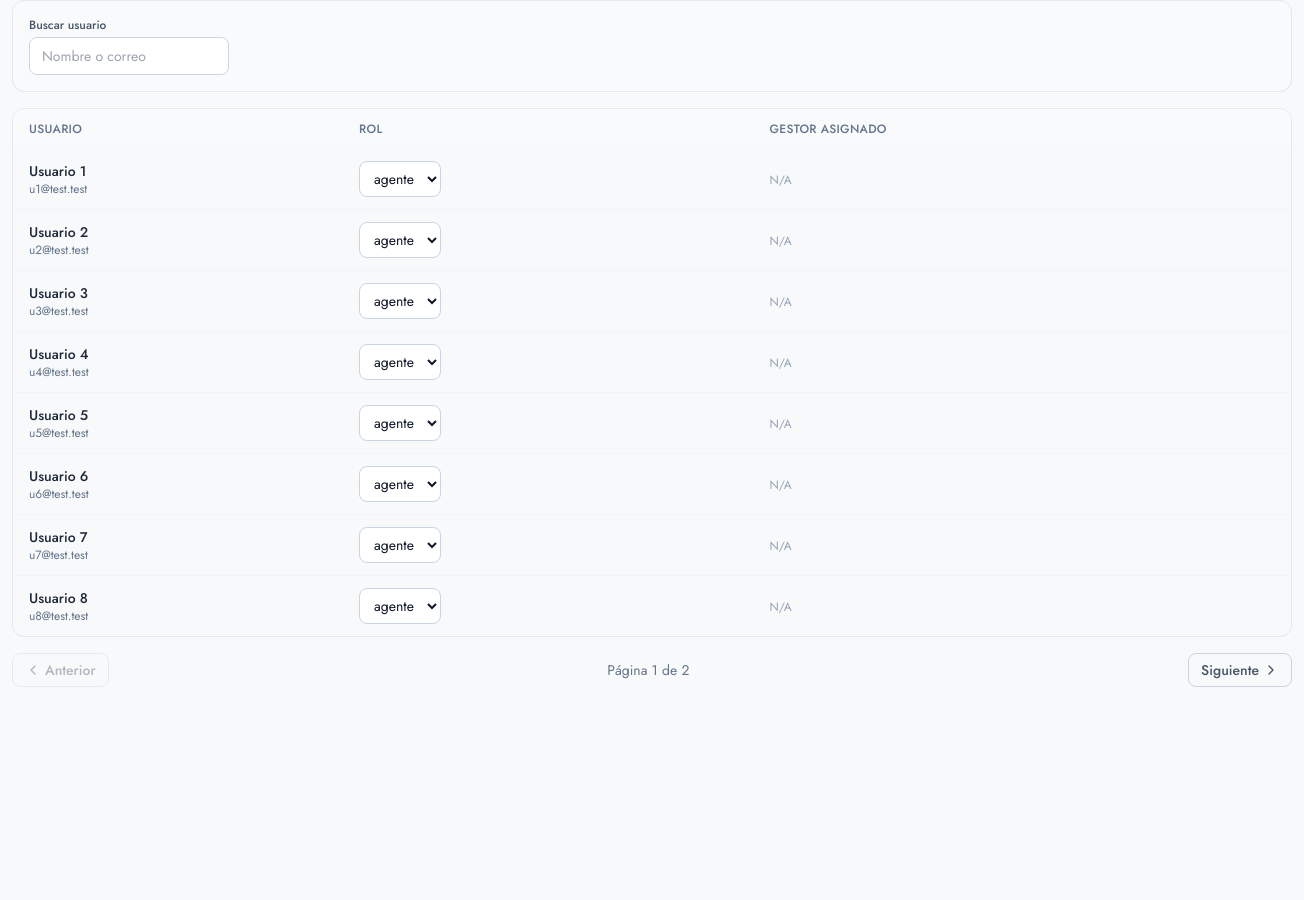
Test: AdminUserTable › pagina cuando hay más de 8 usuarios
The width and height of the screenshot is (1304, 900).
Expected: the text "Usuario 1" is shown, [29,161,86,181]
Expected: the text "Usuario 9" is not shown
Step 1. Click the button "Siguiente" → (1240, 670), box [1188,653,1292,687]
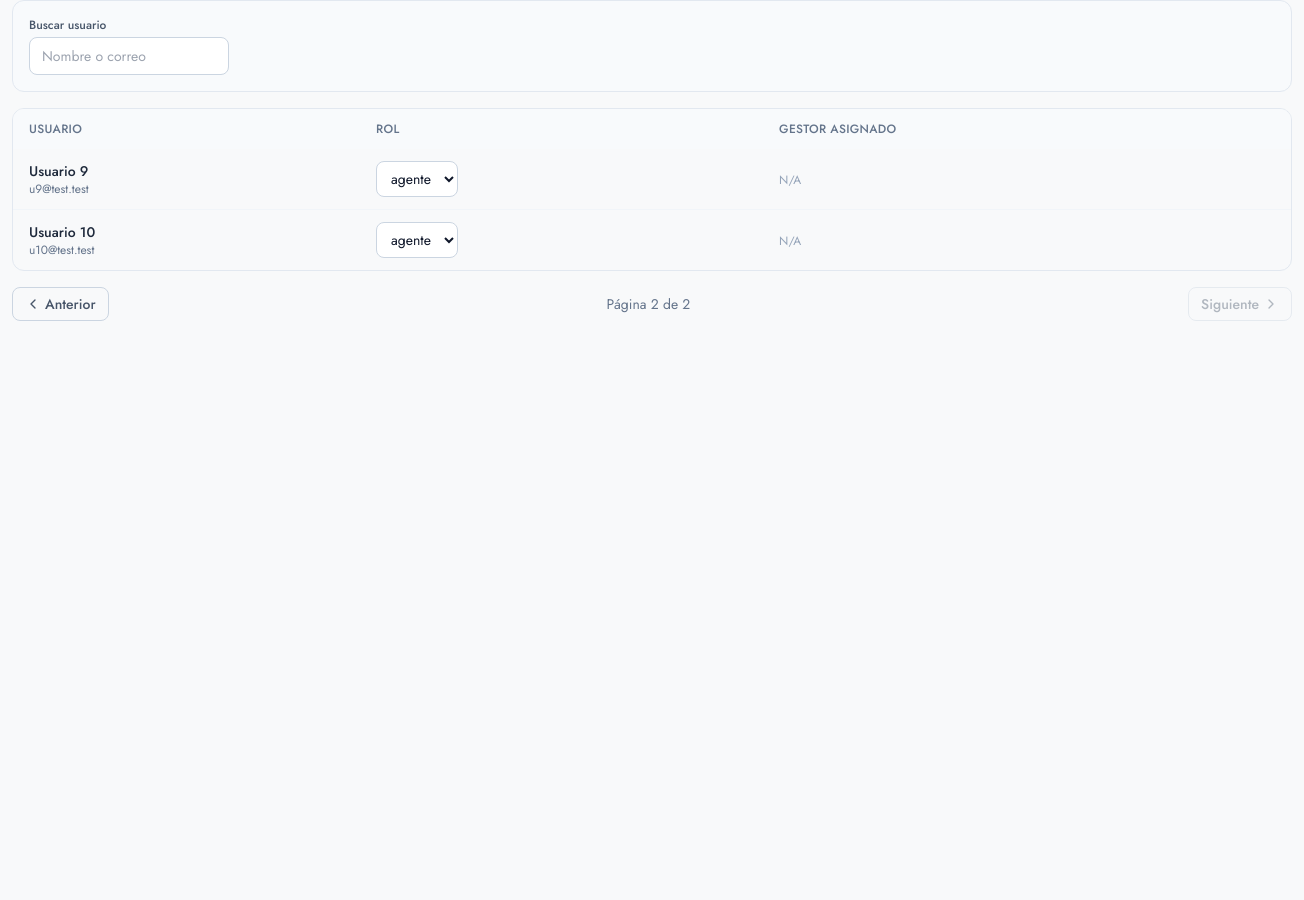
Now the text "Usuario 9" is shown, box [29,161,88,181]
